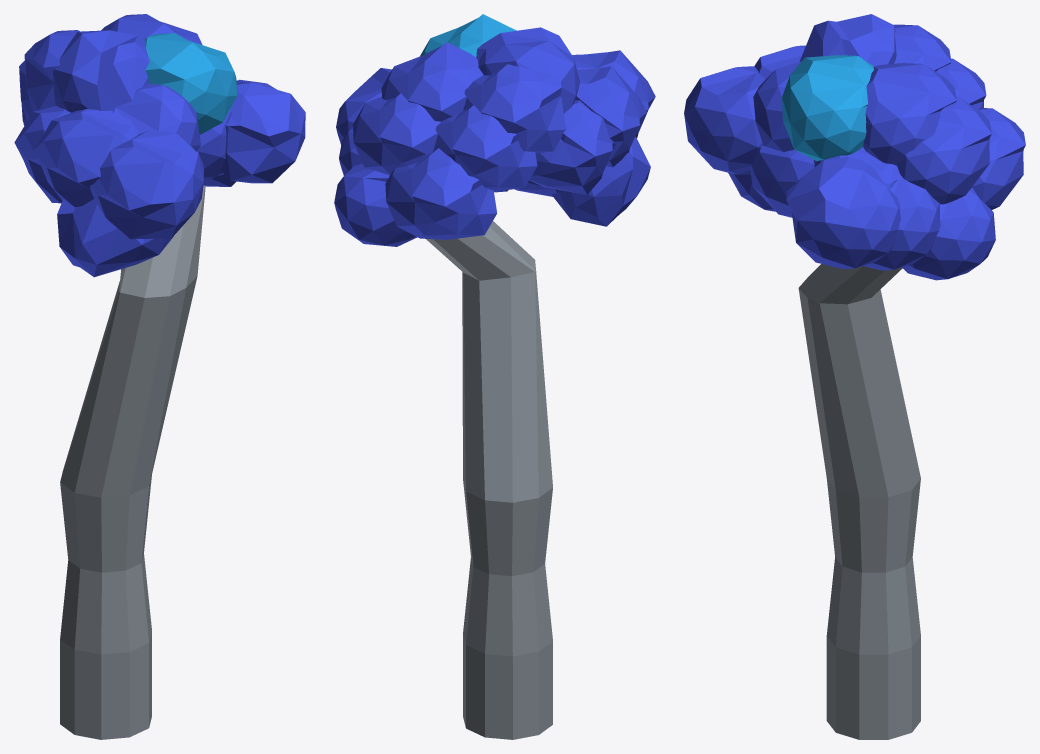
File: Tree Log.fbx
The picture shows the model from 3 angles, left to right: view 1: azimuth 30°, elevation 25°; view 2: azimuth 150°, elevation 25°; view 3: azimuth 270°, elevation 25°; orthographic projection. The views are drawn at different scales.
Visible parts, largest first — view 1: Cylinder, Icosphere.025, Icosphere.039, Icosphere.014, Icosphere.027, Icosphere.015, Icosphere.026, Icosphere.013, Icosphere.019, Icosphere.028, Icosphere.017, Icosphere.021; view 2: Cylinder, Icosphere.022, Icosphere.019, Icosphere.020, Icosphere.018, Icosphere.017, Icosphere.028, Icosphere.014, Icosphere.042, Icosphere.026, Icosphere.027, Icosphere.025 (+3 smaller); view 3: Cylinder, Icosphere.039, Icosphere.015, Icosphere.017, Icosphere.025, Icosphere.018, Icosphere.042, Icosphere.014, Icosphere.040, Icosphere.022, Icosphere.031, Icosphere.013 (+5 smaller).
Boxes of the visible parts, <box> form: Cylinder: <box>60,185,205,739</box>; Icosphere.025: <box>90,130,203,239</box>; Icosphere.039: <box>220,79,305,183</box>; Icosphere.014: <box>52,30,149,112</box>; Icosphere.027: <box>33,109,138,207</box>; Icosphere.015: <box>144,33,237,134</box>; Icosphere.026: <box>57,199,173,277</box>; Icosphere.013: <box>112,83,200,151</box>; Icosphere.019: <box>24,30,79,111</box>; Icosphere.028: <box>14,106,70,203</box>; Icosphere.017: <box>101,14,202,44</box>; Icosphere.021: <box>197,109,231,180</box>; Cylinder: <box>426,221,552,739</box>; Icosphere.022: <box>385,148,497,239</box>; Icosphere.019: <box>463,64,566,153</box>; Icosphere.020: <box>433,105,537,191</box>; Icosphere.018: <box>352,93,440,175</box>; Icosphere.017: <box>381,42,483,121</box>; Icosphere.028: <box>529,100,615,194</box>; Icosphere.014: <box>476,27,580,113</box>; Icosphere.042: <box>334,163,417,246</box>; Icosphere.026: <box>552,136,650,226</box>; Icosphere.027: <box>575,66,646,167</box>; Icosphere.025: <box>572,50,655,137</box>; Cylinder: <box>798,264,920,739</box>; Icosphere.039: <box>786,157,900,269</box>; Icosphere.015: <box>782,55,873,161</box>; Icosphere.017: <box>863,63,956,165</box>; Icosphere.025: <box>684,66,765,174</box>; Icosphere.018: <box>897,97,991,204</box>; Icosphere.042: <box>902,187,995,280</box>; Icosphere.014: <box>799,14,896,66</box>; Icosphere.040: <box>863,174,940,270</box>; Icosphere.022: <box>972,108,1025,209</box>; Icosphere.031: <box>750,145,814,217</box>; Icosphere.013: <box>753,61,800,151</box>.
Size of the model in its own units: 673 by 1627 by 725.
